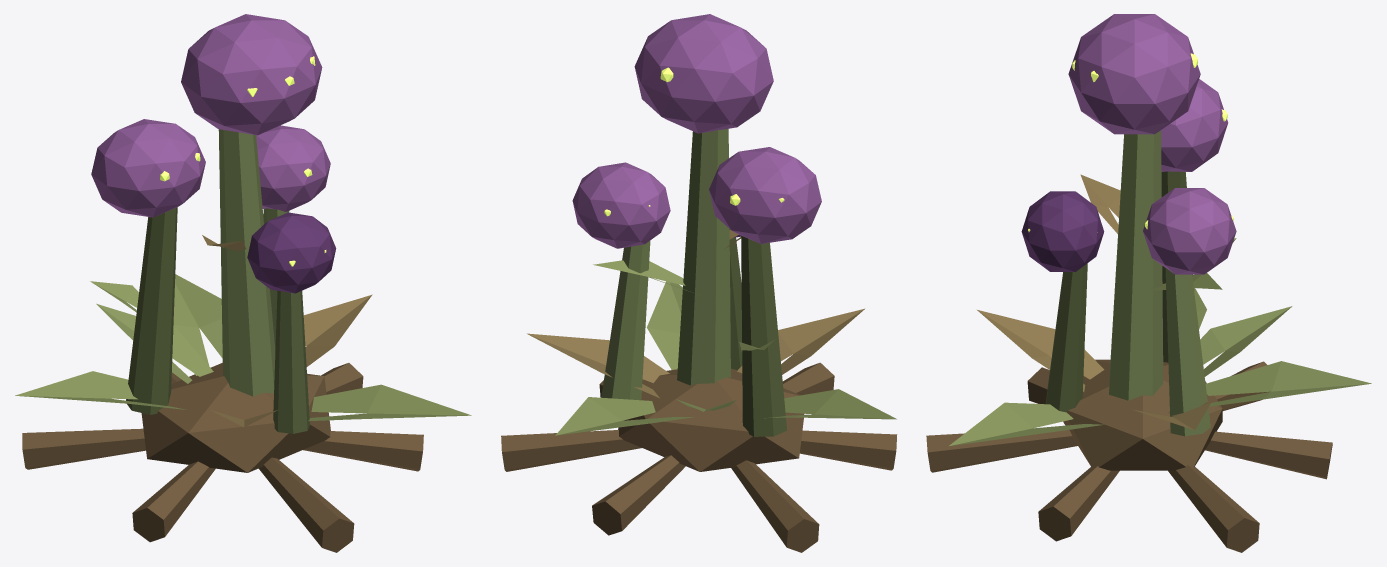
File: Blighted_Plant_01.fbx
3 views of the same model, side by side, from view 1: azimuth 30°, elevation 25°; view 2: azimuth 150°, elevation 25°; view 3: azimuth 270°, elevation 25° (orthographic). The views are drawn at different scales.
Visible parts, largest first — view 1: SporePod_01, RootMass, Stem_01, SporePod_02, Stem_02, SporePod_04, SporePod_03, Stem_04, Root_06, Root_04, Leaf_03, Root_03 (+7 smaller); view 2: SporePod_01, RootMass, Stem_01, SporePod_02, Stem_02, SporePod_03, Stem_03, Root_02, Root_06, Root_01, Root_05, Leaf_01 (+7 smaller); view 3: SporePod_01, Stem_01, RootMass, SporePod_03, SporePod_04, Stem_03, Stem_04, SporePod_02, Leaf_01, Root_01, Root_04, Root_02 (+8 smaller).
Part boxes in pixels (box(x1,y1,x2,y2)): SporePod_01: box(181, 14, 322, 135); RootMass: box(141, 363, 330, 472); Stem_01: box(218, 129, 275, 396); SporePod_02: box(91, 119, 205, 217); Stem_02: box(126, 207, 177, 414); SporePod_04: box(247, 212, 336, 293); SporePod_03: box(256, 125, 330, 211); Stem_04: box(273, 290, 309, 433); Root_06: box(22, 428, 145, 469); Root_04: box(258, 457, 354, 552); Leaf_03: box(308, 384, 471, 421); Root_03: box(303, 431, 423, 471); SporePod_01: box(634, 14, 773, 133); RootMass: box(618, 368, 804, 471); Stem_01: box(677, 129, 730, 385); SporePod_02: box(709, 147, 821, 243); Stem_02: box(741, 235, 787, 436); SporePod_03: box(572, 162, 670, 248); Stem_03: box(601, 241, 650, 400); Root_02: box(501, 430, 641, 471); Root_06: box(731, 460, 819, 552); Root_01: box(592, 455, 685, 535); Root_05: box(799, 430, 897, 470); Leaf_01: box(555, 397, 694, 435); SporePod_01: box(1068, 14, 1200, 134); Stem_01: box(1109, 130, 1163, 400); RootMass: box(1063, 359, 1222, 470); SporePod_03: box(1143, 188, 1236, 274); SporePod_04: box(1021, 191, 1104, 271); Stem_03: box(1165, 268, 1210, 436); Stem_04: box(1045, 263, 1087, 412); SporePod_02: box(1161, 79, 1228, 171); Leaf_01: box(1205, 361, 1371, 406); Root_01: box(1205, 431, 1332, 479); Root_04: box(926, 430, 1077, 472); Root_02: box(1168, 465, 1259, 552).
Size of the model in its own units: 159 by 185 by 162.
